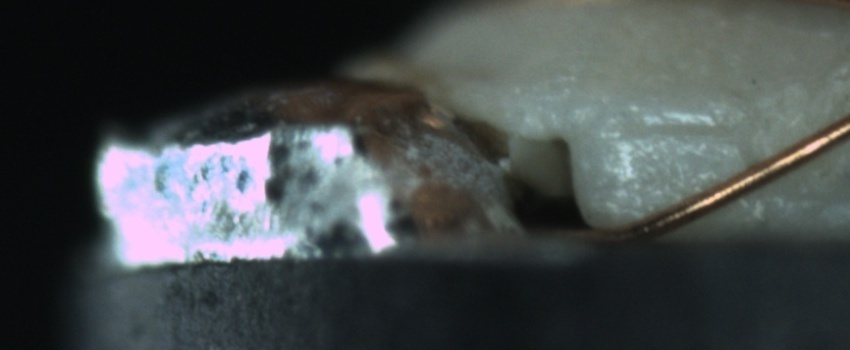DL: (610, 99, 743, 165)
